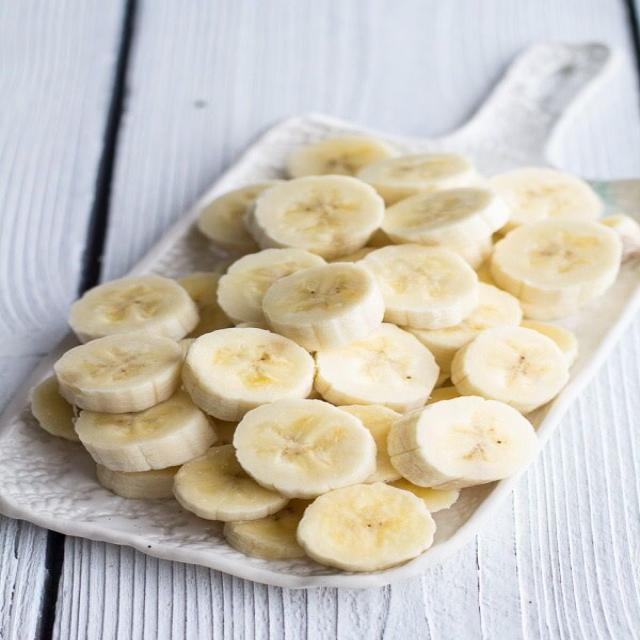banana slice: (234, 399, 376, 497), (389, 397, 537, 489), (491, 218, 621, 319), (298, 483, 435, 571), (183, 328, 314, 420), (247, 175, 383, 259), (75, 391, 216, 472), (315, 323, 438, 413), (263, 263, 385, 351), (55, 333, 183, 413), (407, 284, 522, 371), (452, 327, 568, 413), (360, 245, 477, 328), (174, 445, 287, 521), (70, 276, 198, 342), (218, 249, 325, 322), (381, 188, 508, 248), (490, 168, 602, 230), (358, 153, 478, 204), (198, 181, 280, 253), (223, 500, 309, 559), (340, 405, 401, 483), (288, 136, 394, 178), (178, 272, 232, 337), (31, 376, 78, 441), (96, 465, 179, 499), (521, 320, 579, 366), (390, 478, 459, 513), (600, 215, 639, 260), (447, 237, 492, 269), (329, 247, 376, 262), (427, 386, 460, 404), (215, 420, 237, 445), (367, 229, 393, 248), (476, 260, 494, 285), (214, 258, 236, 275), (179, 338, 196, 356), (236, 321, 269, 330), (435, 371, 450, 388)
